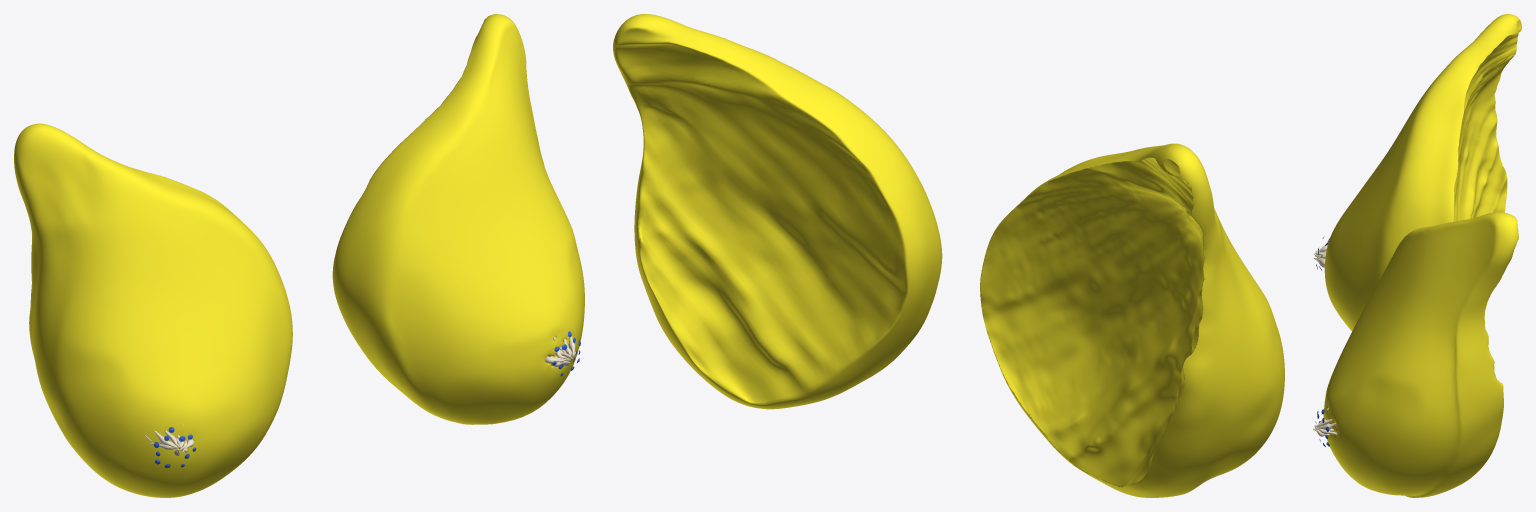
File: breasts.glb
The picture shows the model from 3 angles, left to right: view 1: azimuth 30°, elevation 25°; view 2: azimuth 150°, elevation 25°; view 3: azimuth 270°, elevation 25°; orthographic projection. The views are drawn at different scales.
Parts seen in each view (by area): view 1: VH_F_fat_R, VH_F_fat_L; view 2: VH_F_fat_L, VH_F_fat_R; view 3: VH_F_fat_L, VH_F_fat_R.
Boxes of the visible parts, box(x1,y1,x2,y2) form: VH_F_fat_R: box(14, 123, 292, 497); VH_F_fat_L: box(332, 14, 584, 424); VH_F_fat_L: box(613, 14, 942, 409); VH_F_fat_R: box(980, 143, 1284, 497); VH_F_fat_L: box(1323, 212, 1518, 497); VH_F_fat_R: box(1324, 14, 1521, 331).
Size of the model in its own units: 0.2889 by 0.1826 by 0.1129.
